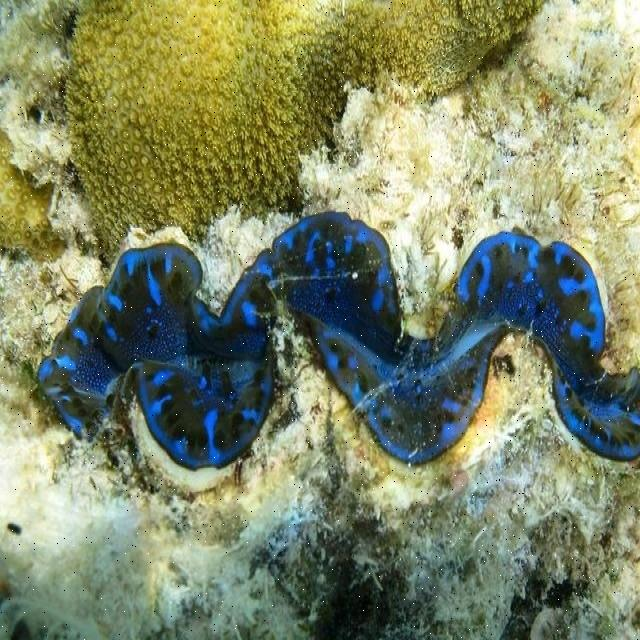reefs: (38, 211, 639, 472), (42, 0, 547, 269)
